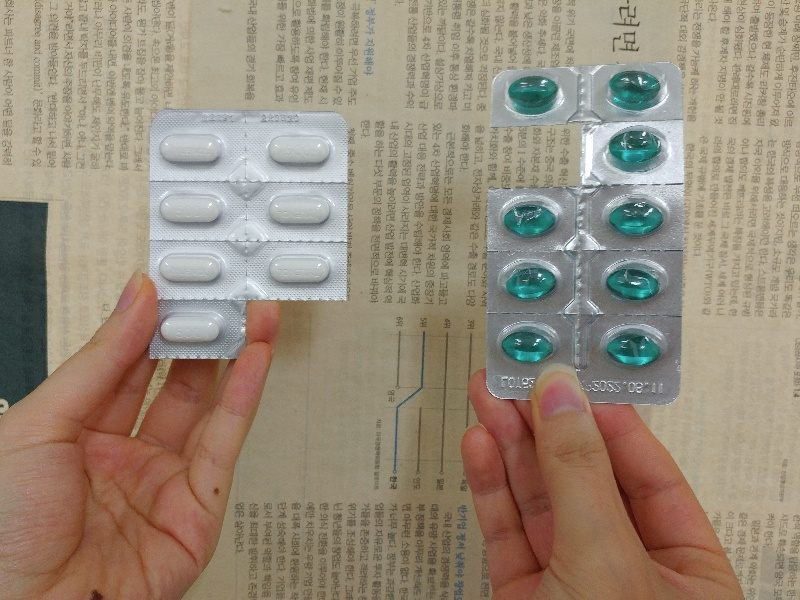pill_ezn: (577, 252, 683, 316), (580, 187, 682, 250), (583, 124, 682, 183), (578, 316, 681, 371), (487, 253, 576, 313), (584, 65, 681, 120), (489, 189, 576, 249), (491, 69, 581, 122), (488, 316, 576, 369)
